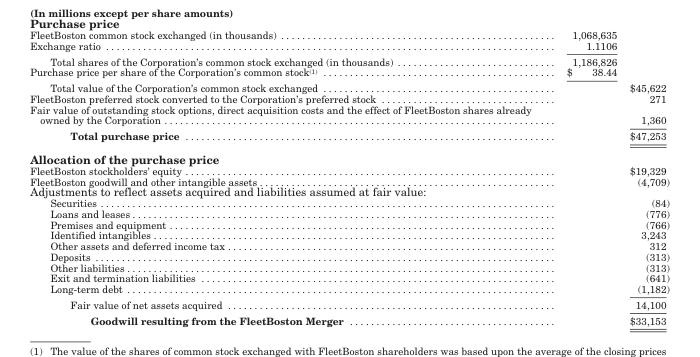table: (29, 28, 668, 325)
table column: (29, 28, 559, 325), (559, 28, 622, 325), (622, 28, 668, 325)
table column header: (29, 28, 668, 92)
table projected row header: (29, 146, 668, 165), (29, 185, 668, 197)
table row: (29, 28, 668, 92), (29, 103, 668, 127), (29, 127, 668, 146), (29, 146, 668, 165), (29, 296, 668, 311), (29, 282, 668, 296), (29, 311, 668, 325), (29, 185, 668, 197), (29, 92, 668, 103), (29, 207, 668, 218), (29, 218, 668, 229), (29, 239, 668, 250), (29, 250, 668, 261), (29, 261, 668, 272), (29, 165, 668, 175), (29, 175, 668, 185), (29, 197, 668, 207), (29, 229, 668, 239), (29, 272, 668, 282)
